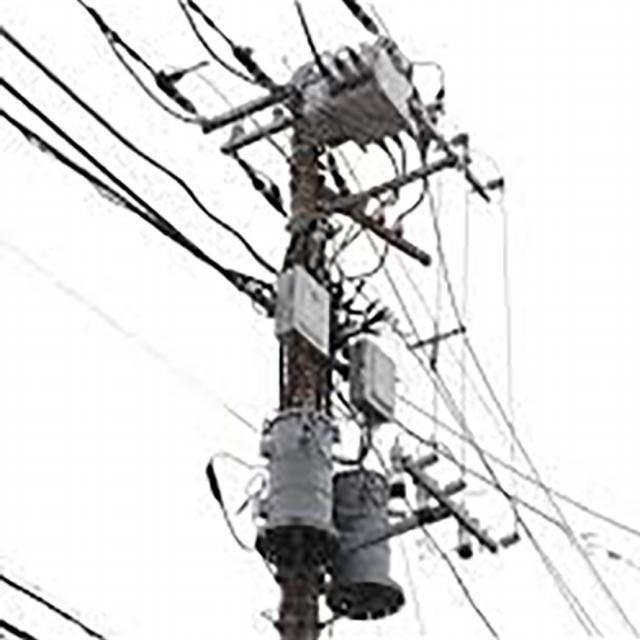pole: (154, 5, 541, 640)
